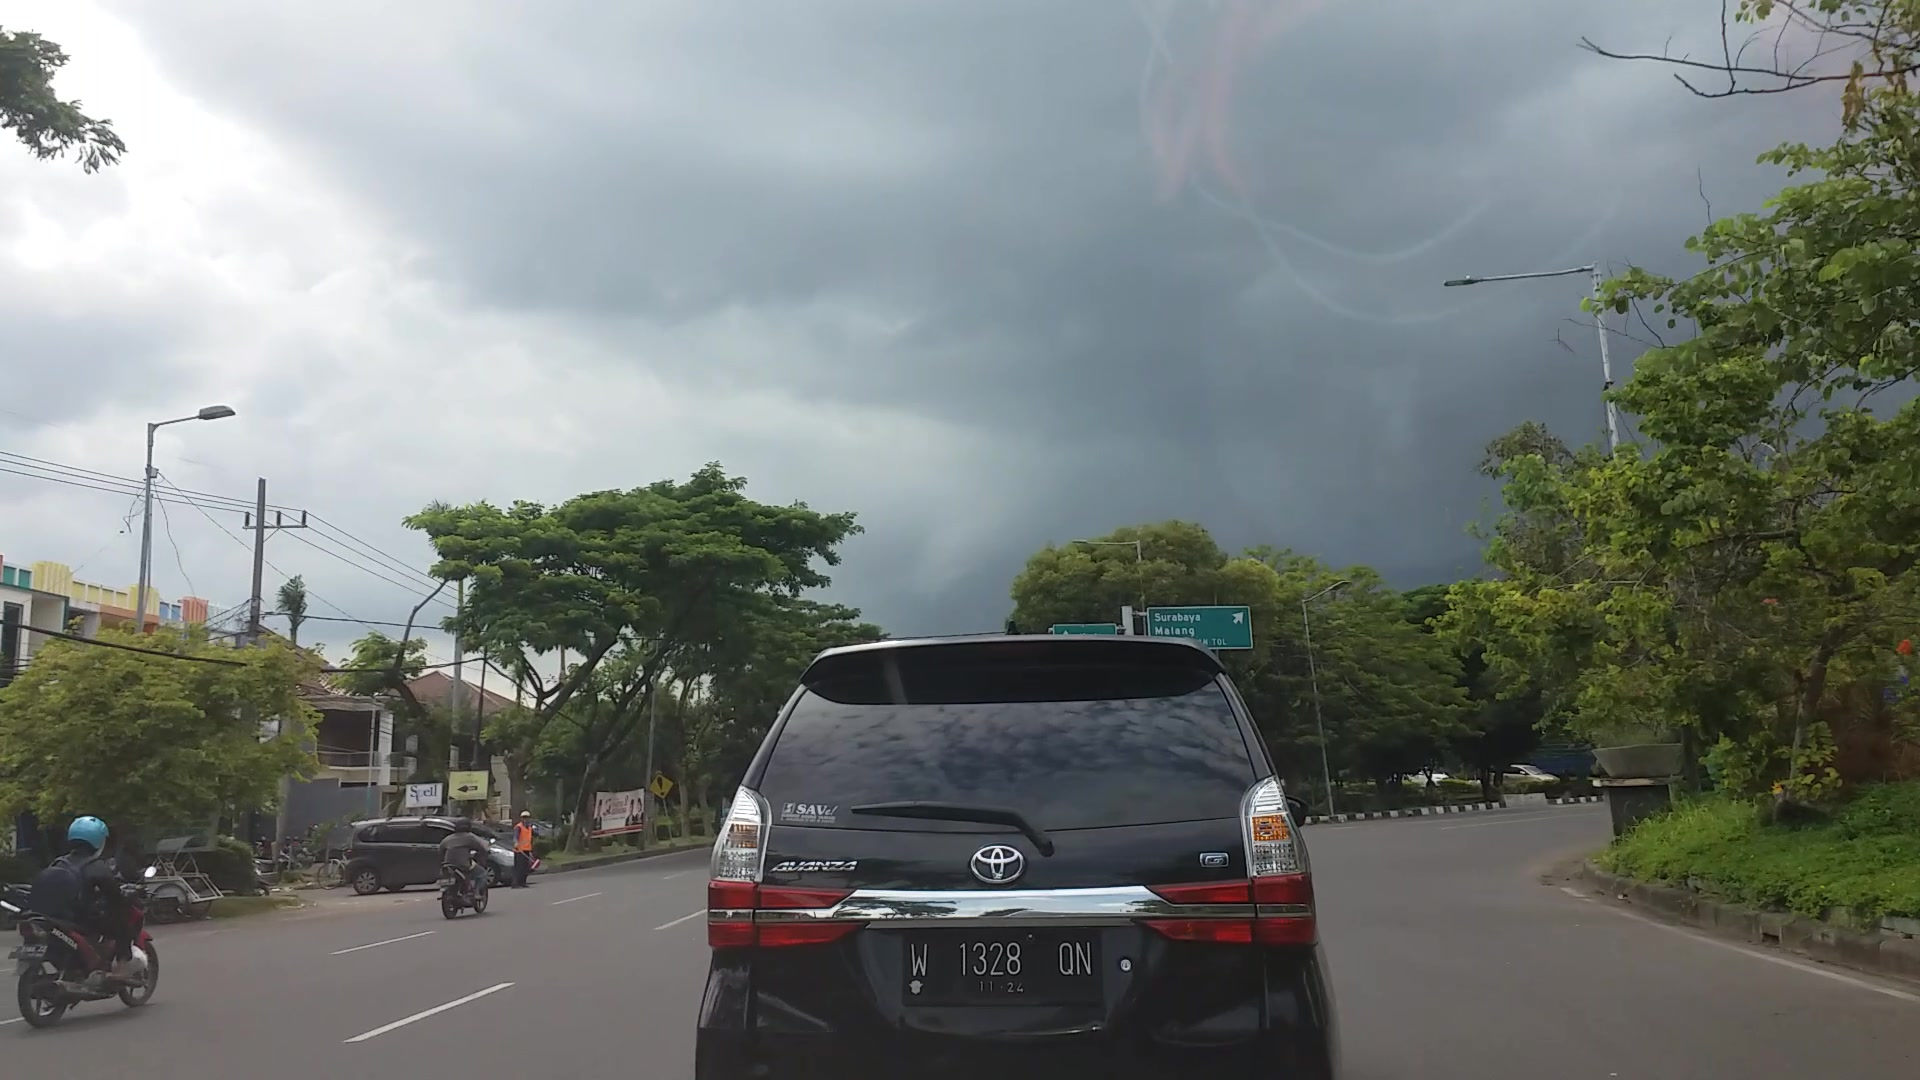plate_positive: (902, 927, 1102, 1007)
